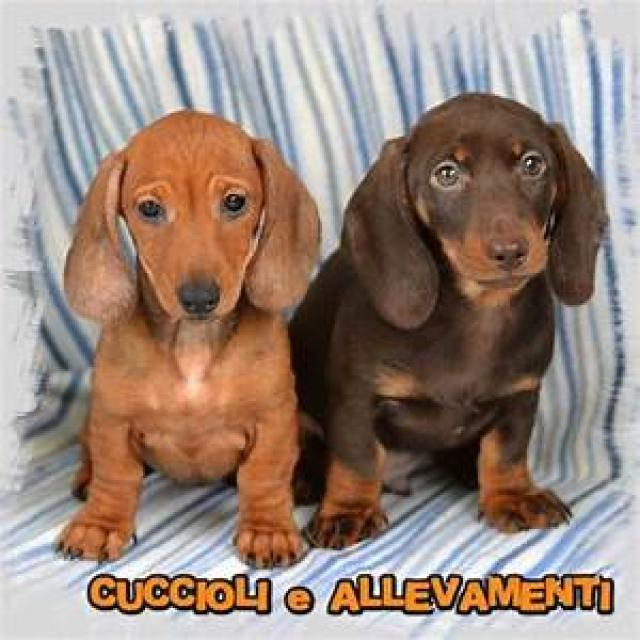dog: (286, 90, 610, 550), (53, 106, 322, 570)
